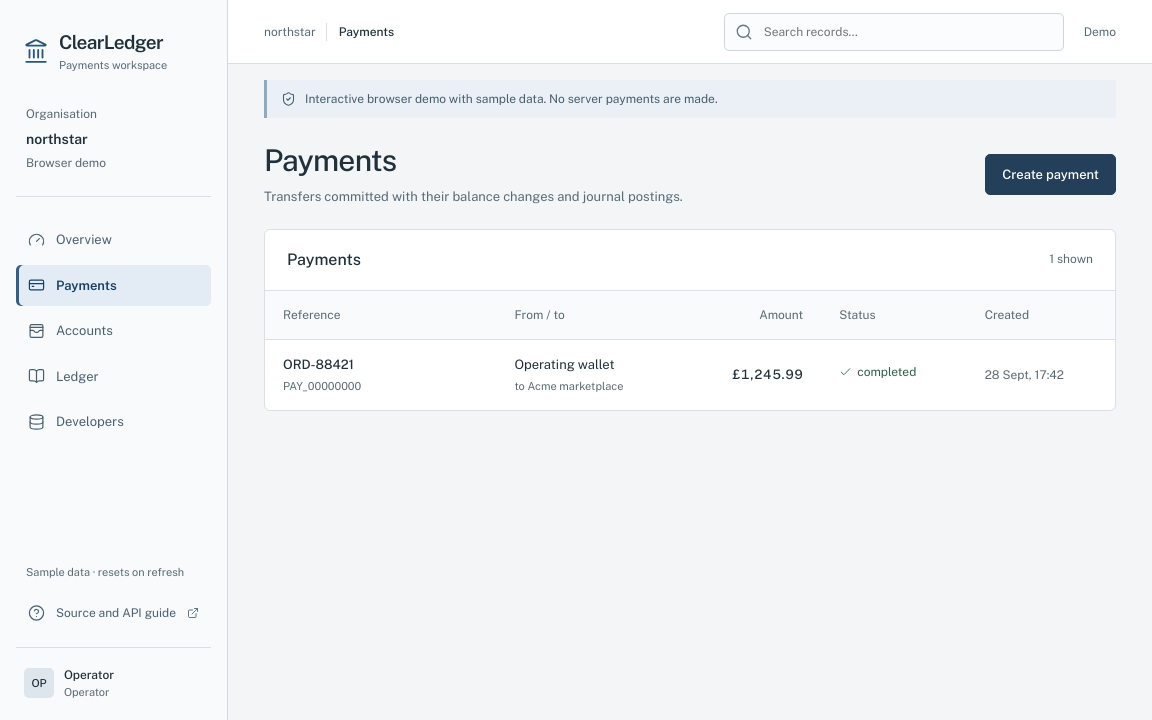
Scenario: posts a payment and refreshes the displayed records
Click the button "Create payment". click: click(1051, 174)
box: [985,154,1116,195]
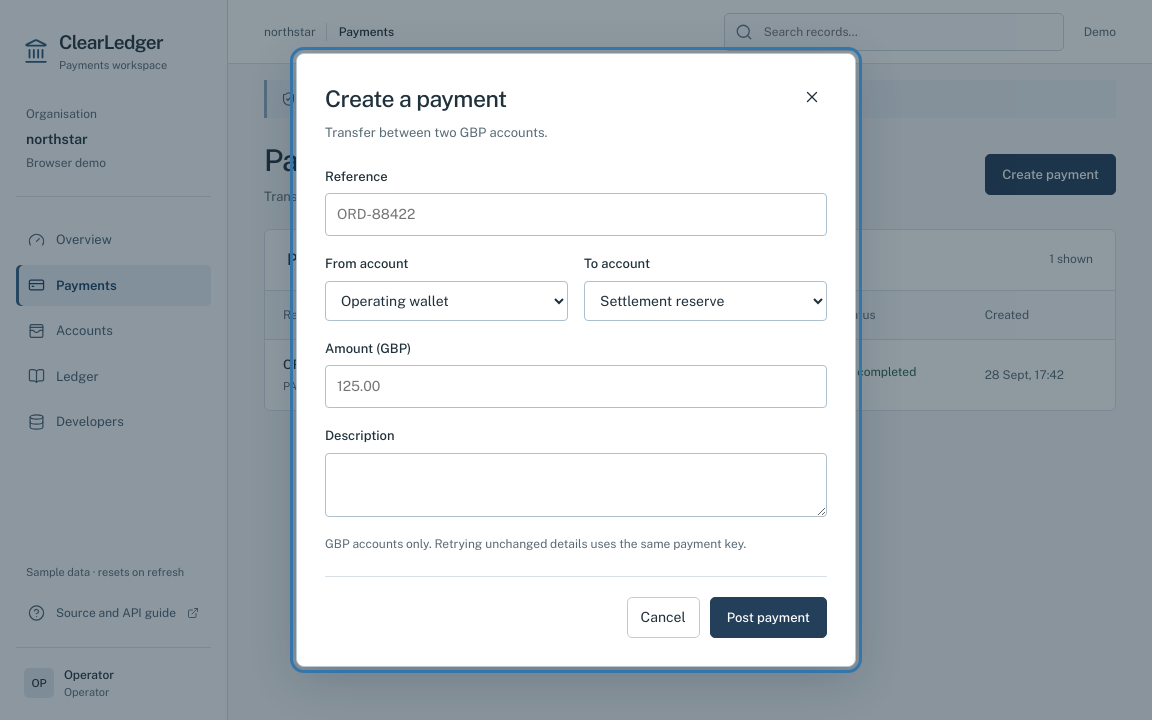
Type "CV-DEMO-1" into the field labelled "Reference". click: (576, 215)
box: [325,193,827,236]
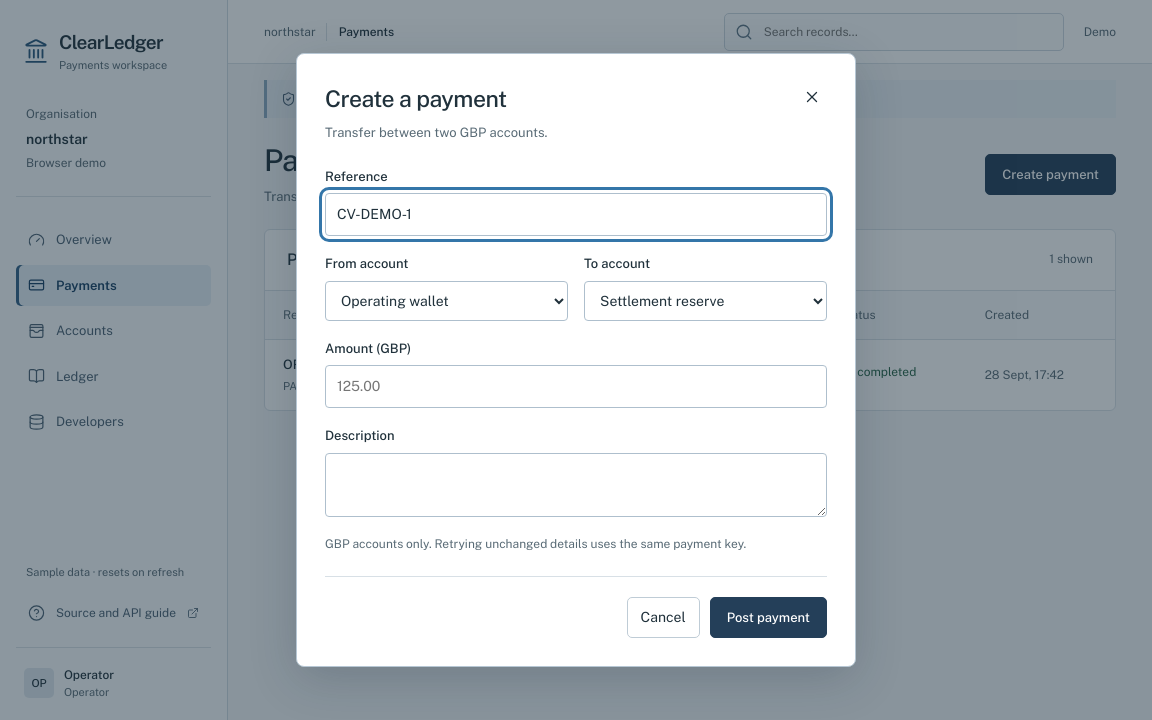
Type "12.50" into the field labelled "Amount (GBP)". click: (576, 387)
box: [325,365,827,408]
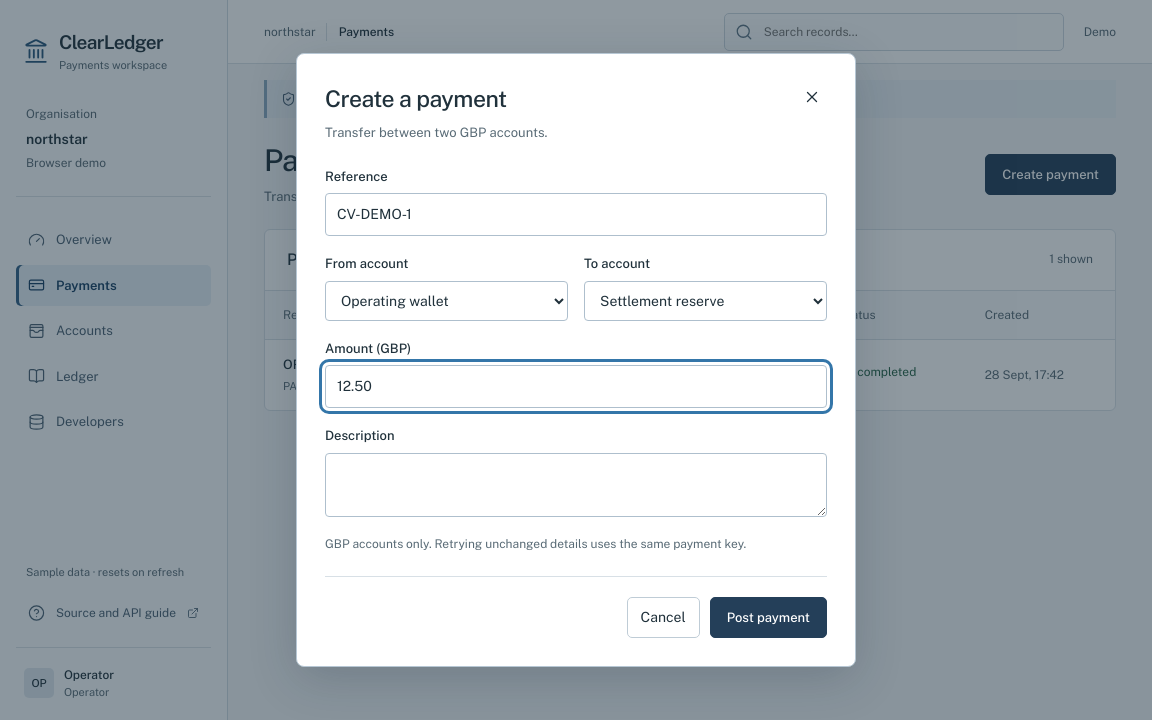
Click the button "Post payment". click: click(768, 618)
box: [710,597,827,638]
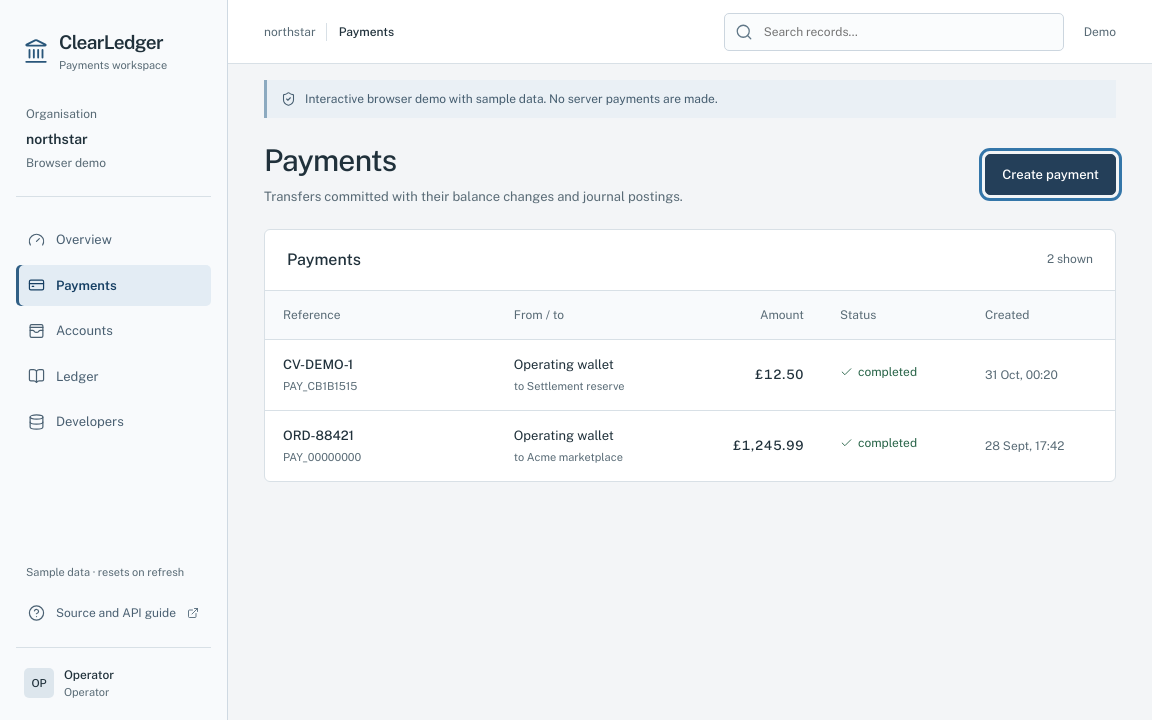
Expected: the text "CV-DEMO-1" is shown, [283,356,353,372]
Expected: the dialog is gone
